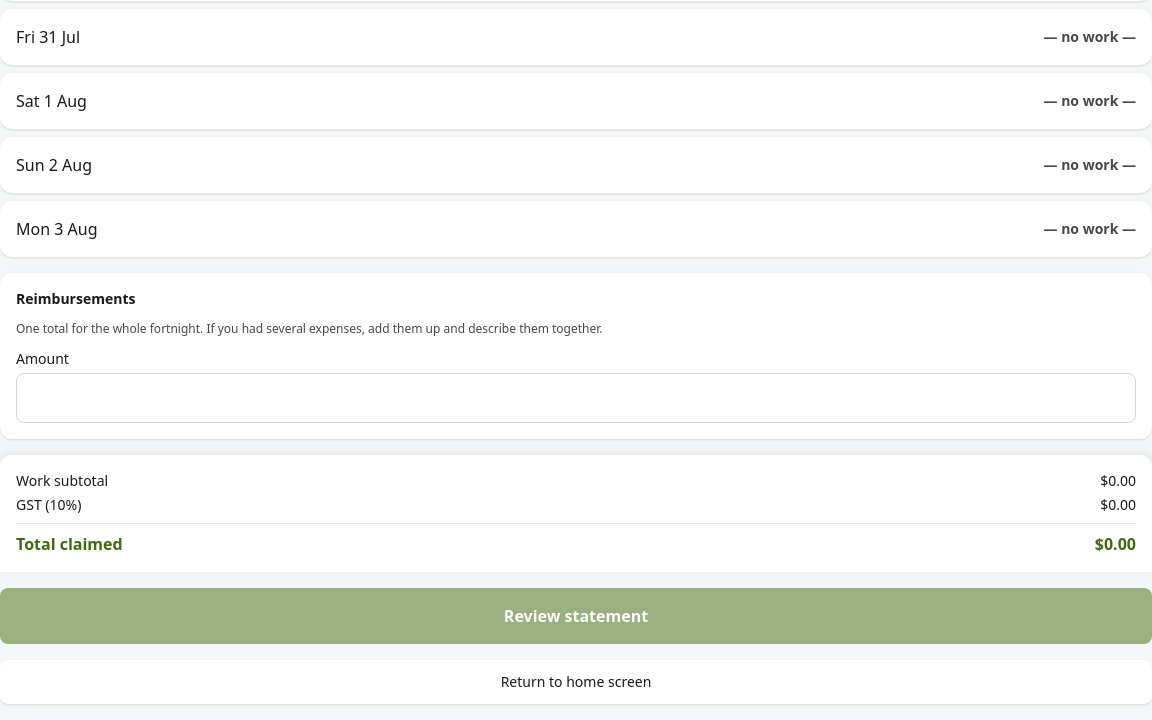
Test: FortnightlyForm incomplete reimbursement gating › shows an inline message while a reimbursement is incomplete
(page scrolled)
Type "45" into the number field labelled "Amount".
click(576, 398); type("45")  # box [16,373,1136,423]
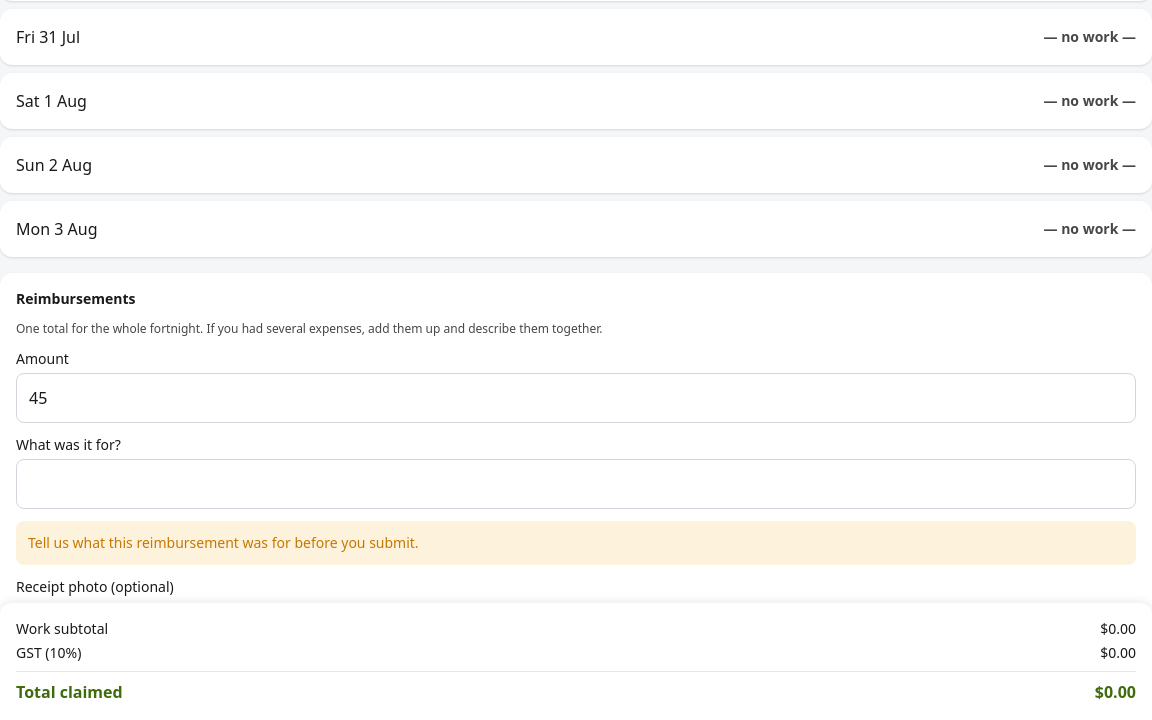
Result: the message reads "Tell us what this reimbursement was for before you submit." at [28,533,419,552]
